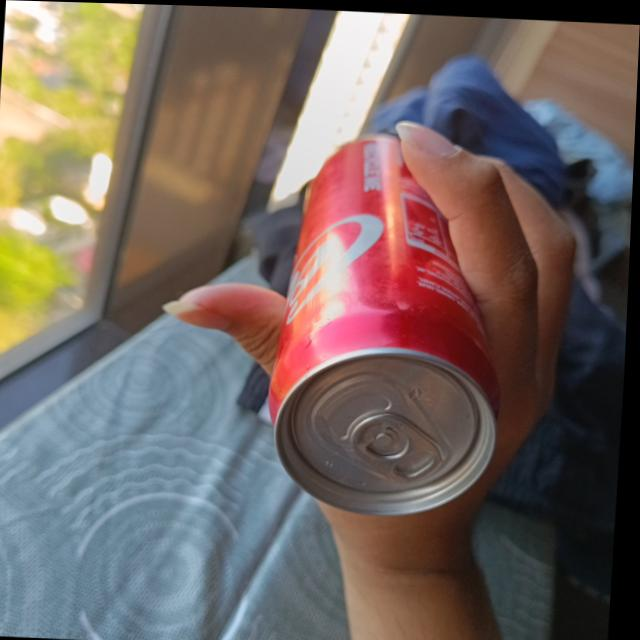coke: (267, 128, 513, 519)
